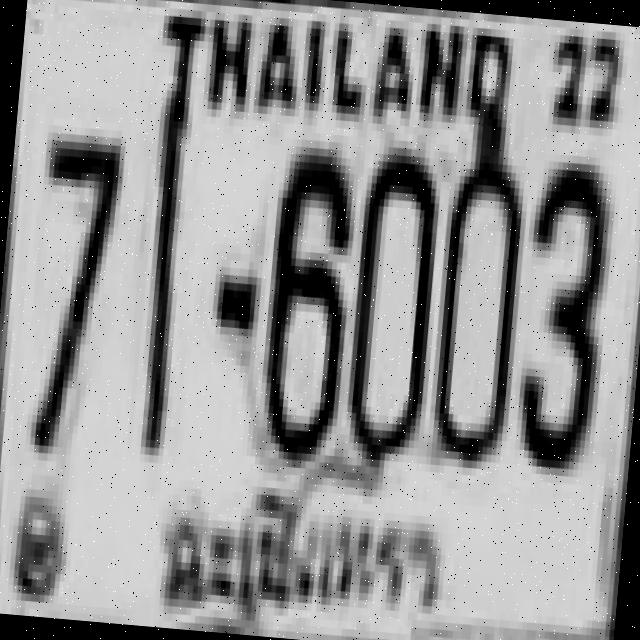0: (340, 145, 441, 470), (426, 144, 526, 462)
3: (506, 152, 612, 463)
6: (256, 141, 356, 459)
7: (20, 124, 121, 450)
Chachoengsao: (151, 471, 457, 640)
